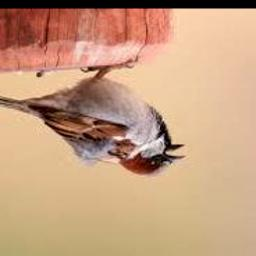Sparrow: (0, 58, 186, 178)
